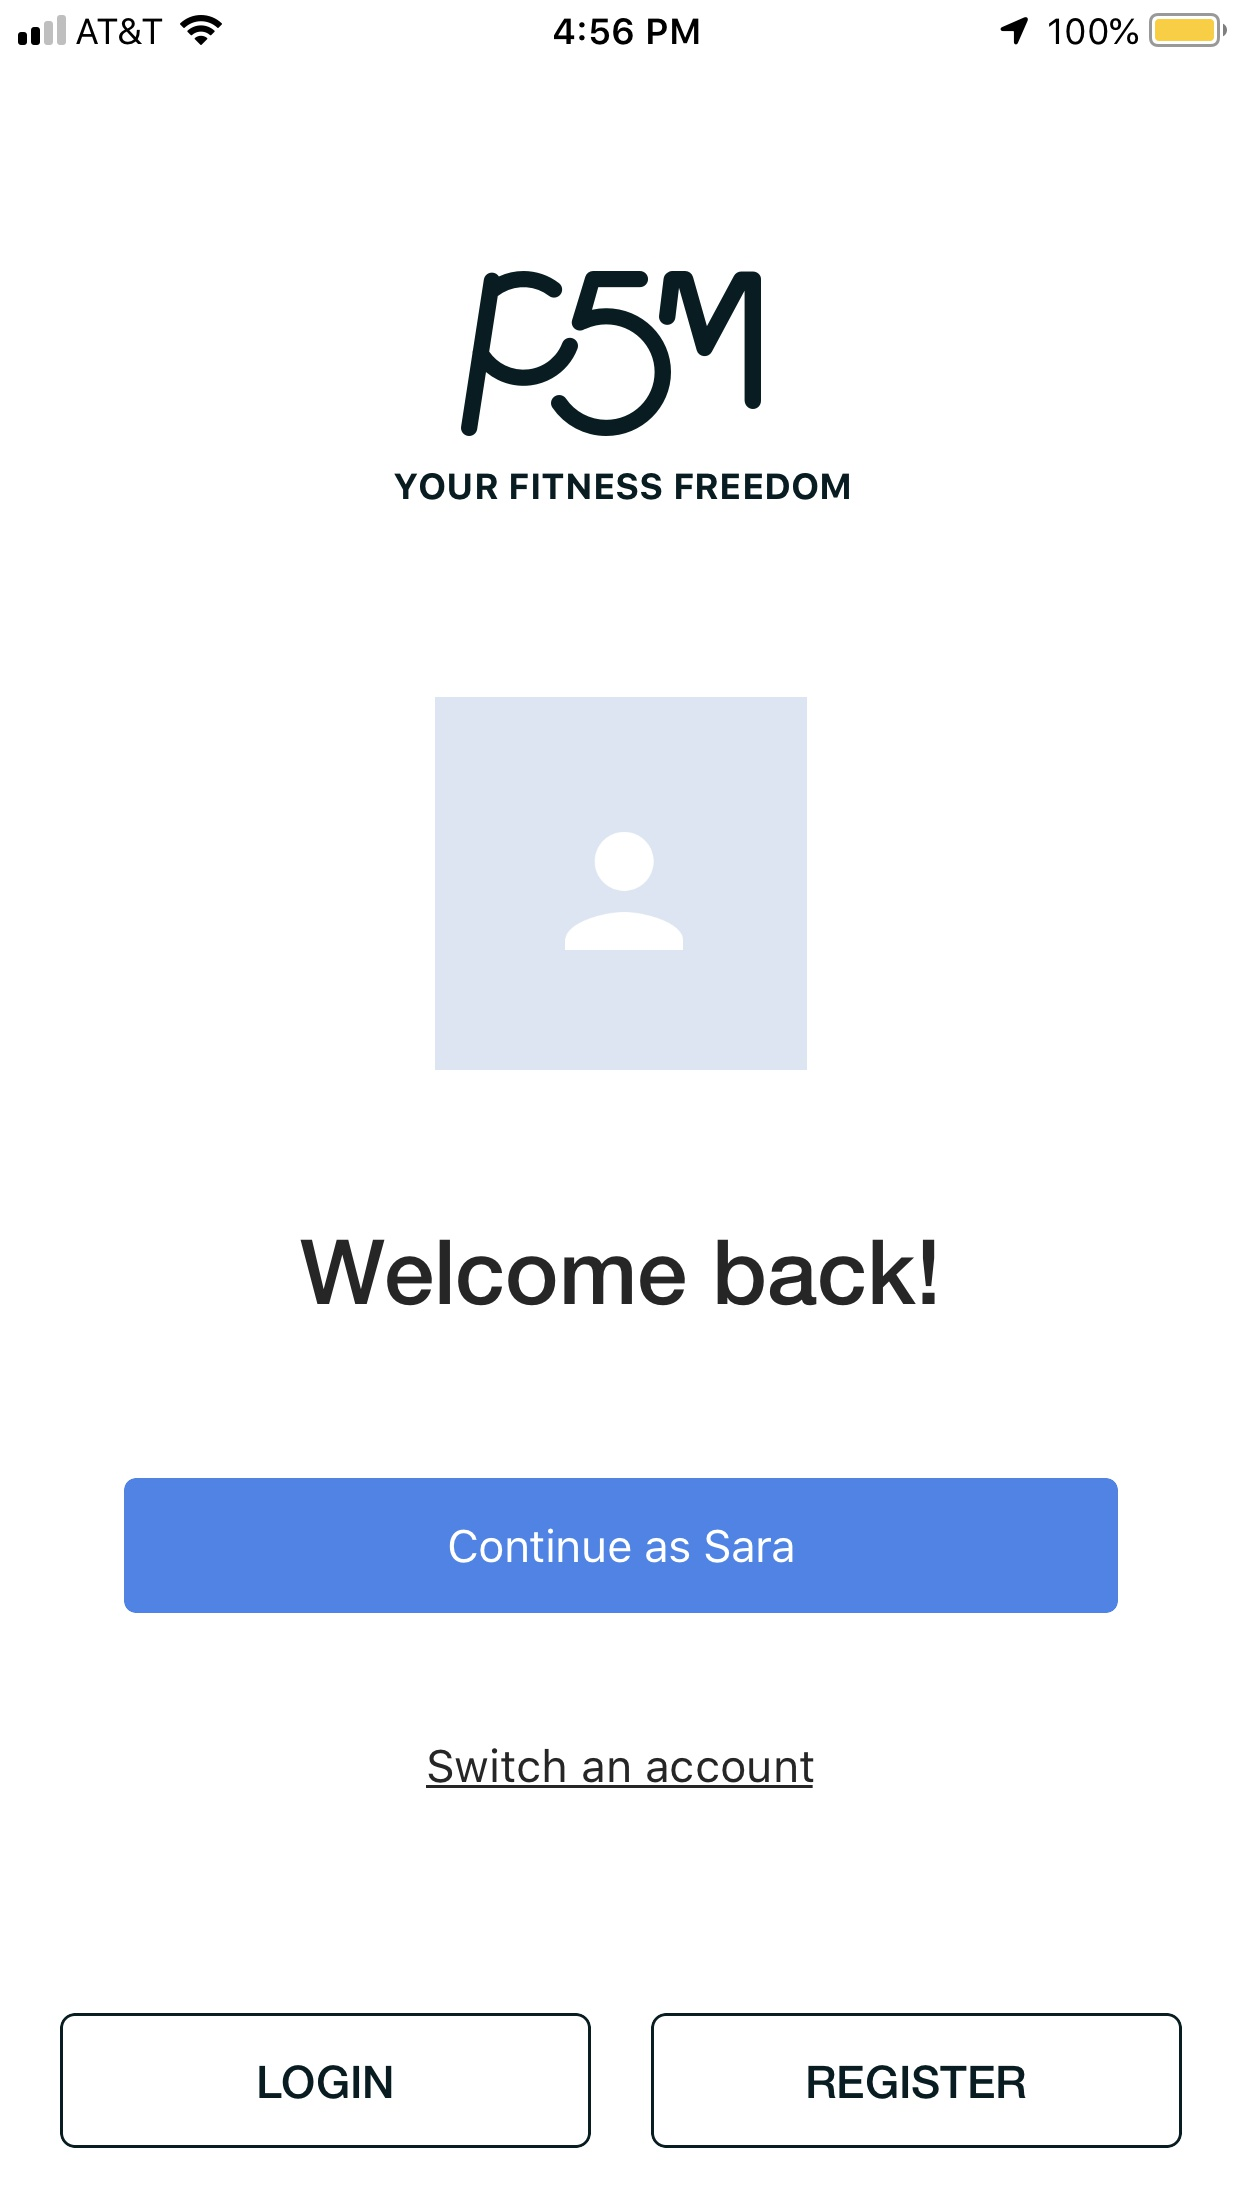Icon: (434, 698, 808, 1071)
Image: (459, 271, 761, 438)
Text: (300, 1237, 937, 1307), (426, 1747, 814, 1789), (394, 473, 851, 502)
TextButton: (124, 1477, 1119, 1614), (651, 2012, 1183, 2149), (61, 2012, 591, 2149)
UpperTaskBar: (2, 2, 1242, 49)
